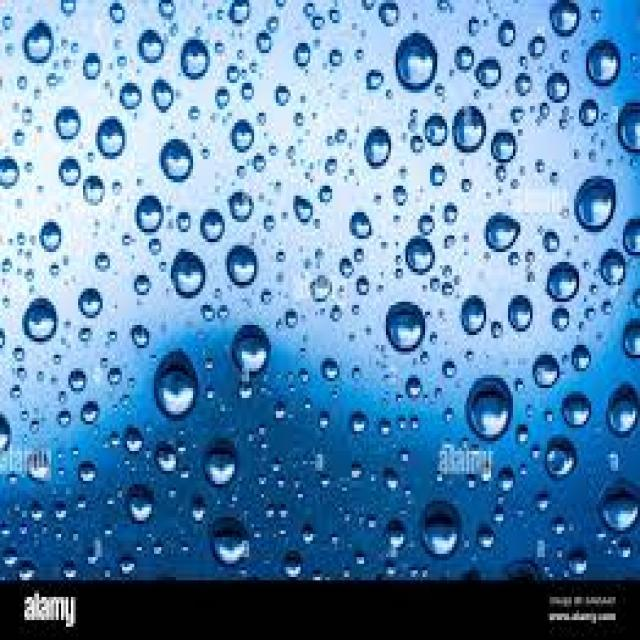raindrop: (142, 334, 215, 428), (458, 358, 521, 456), (565, 162, 627, 251), (167, 236, 227, 326), (186, 506, 262, 574), (382, 22, 443, 106), (414, 487, 470, 577), (220, 303, 278, 388), (591, 464, 640, 552), (11, 282, 66, 358), (88, 106, 146, 178), (383, 281, 434, 359), (192, 430, 248, 500), (443, 89, 495, 164), (132, 16, 184, 89), (575, 34, 632, 98), (174, 23, 222, 93), (479, 203, 528, 270), (151, 133, 201, 198), (14, 14, 64, 78), (397, 224, 446, 289), (603, 371, 640, 447), (489, 290, 541, 344), (130, 182, 172, 245), (70, 270, 113, 330), (44, 98, 86, 152), (222, 109, 264, 162), (460, 285, 493, 348), (360, 115, 394, 176), (37, 212, 73, 266), (0, 145, 20, 200)
